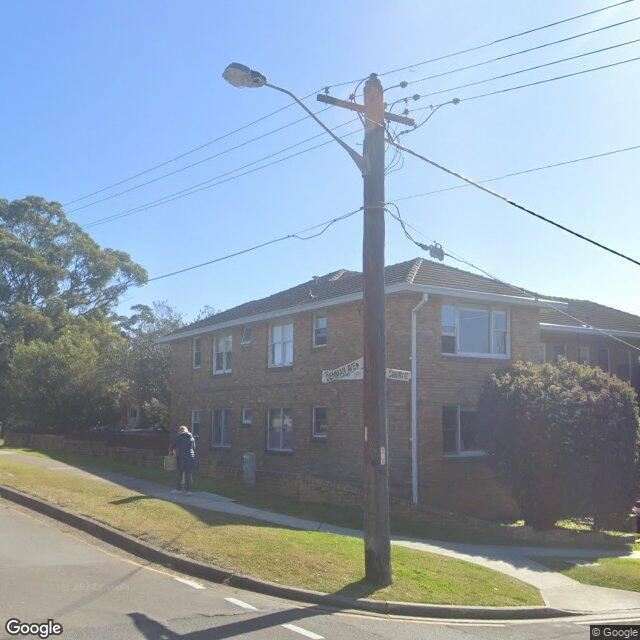crossarm: (316, 94, 416, 128)
streetlight: (221, 63, 369, 178)
timber-pole: (363, 76, 391, 588)
